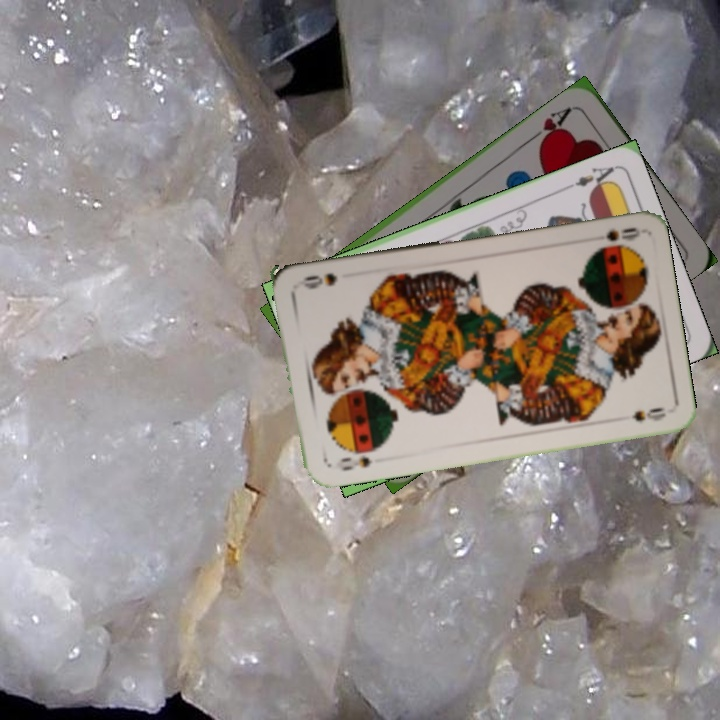EA: (562, 162, 618, 193)
HA: (526, 103, 576, 150)
SO: (601, 223, 642, 244), (336, 452, 375, 474)
